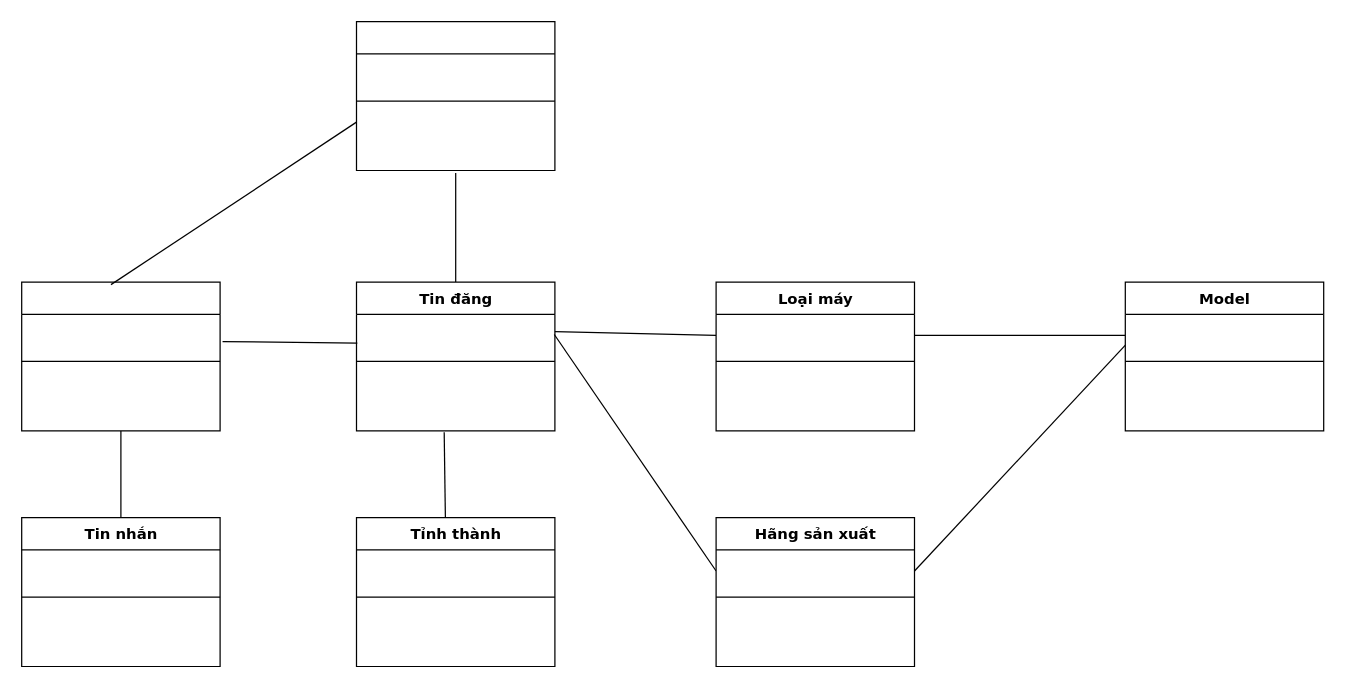
Image size: 1345x692. Some labels were removed from this diagram. Each missing label, with the box of its shape:
Tin đã lưu: (355, 20, 555, 170)
User: (20, 281, 220, 431)
